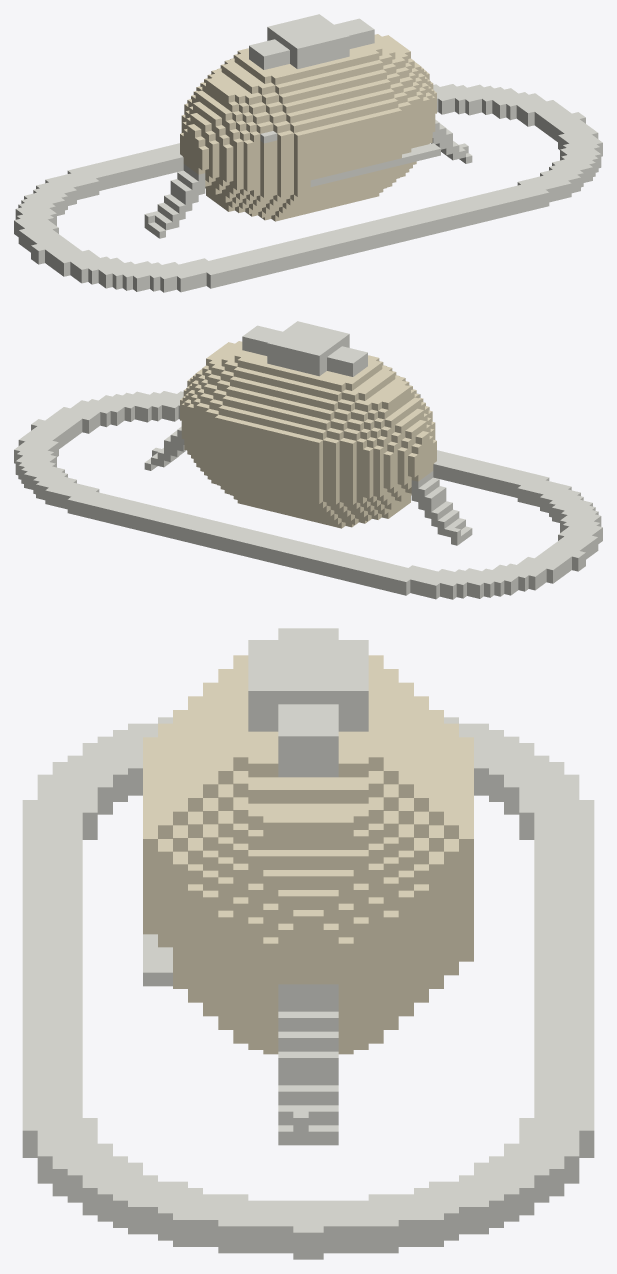
Rendered from makeshift_sling.glb.
The picture shows the model from 3 angles, top to bottom: view 1: azimuth 30°, elevation 25°; view 2: azimuth 150°, elevation 25°; view 3: azimuth 270°, elevation 25°; orthographic projection. The views are drawn at different scales.
Parts seen in each view (by area): view 1: makeshift_sling:compound; view 2: makeshift_sling:compound; view 3: makeshift_sling:compound.
Boxes of the visible parts, x1,y1,x2,y2 form: makeshift_sling:compound: (14, 14, 602, 292); makeshift_sling:compound: (14, 321, 602, 599); makeshift_sling:compound: (22, 628, 594, 1259).
Size of the model in its own units: 0.84 by 0.24 by 0.38.
